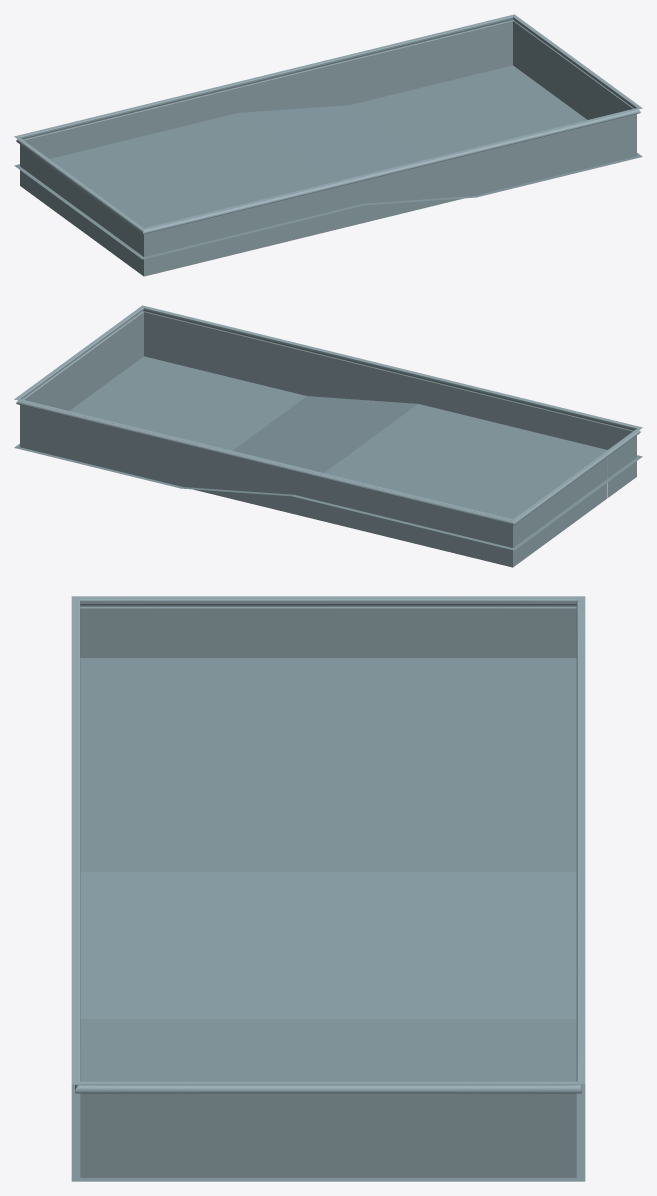
The model's file is Pool.fbx.
3 views of the same model, one above another, from view 1: azimuth 30°, elevation 25°; view 2: azimuth 150°, elevation 25°; view 3: azimuth 270°, elevation 25° (orthographic). The views are drawn at different scales.
Visible parts, largest first — view 1: Pool; view 2: Pool; view 3: Pool.
Boxes of the visible parts, left/top/right/bottom form: Pool: left=14, top=14, right=642, bottom=276; Pool: left=14, top=305, right=642, bottom=567; Pool: left=71, top=596, right=585, bottom=1181.
Size of the model in its own units: 2700 by 250 by 1200.
